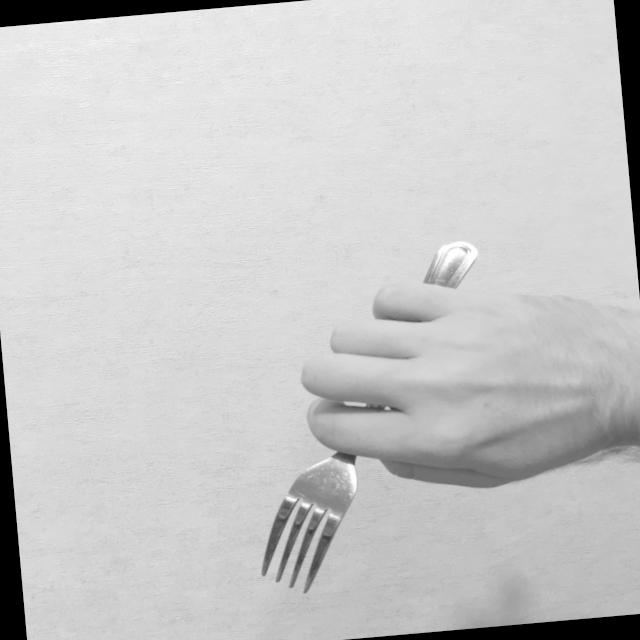fork: (230, 238, 508, 594)
